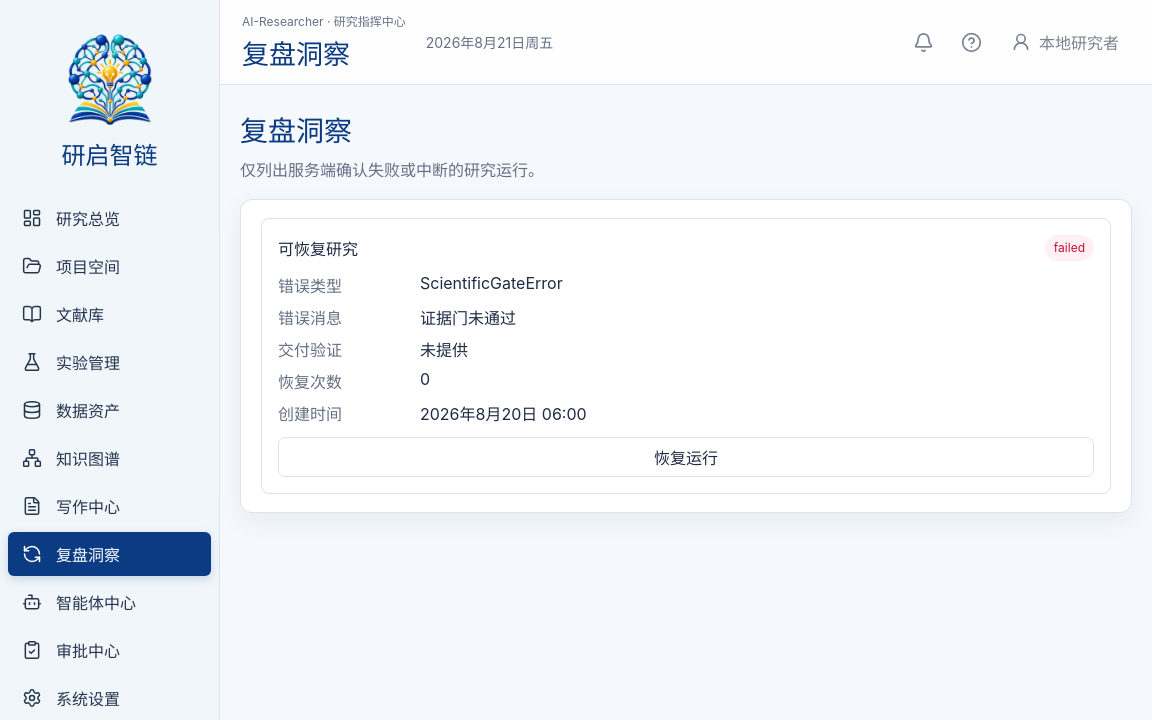
it: invalidates the exact run caches and toasts only after server-confirmed resume
Click the button with aria-label "恢复可恢复研究". click: x=686, y=457
box: [278,437,1094,477]
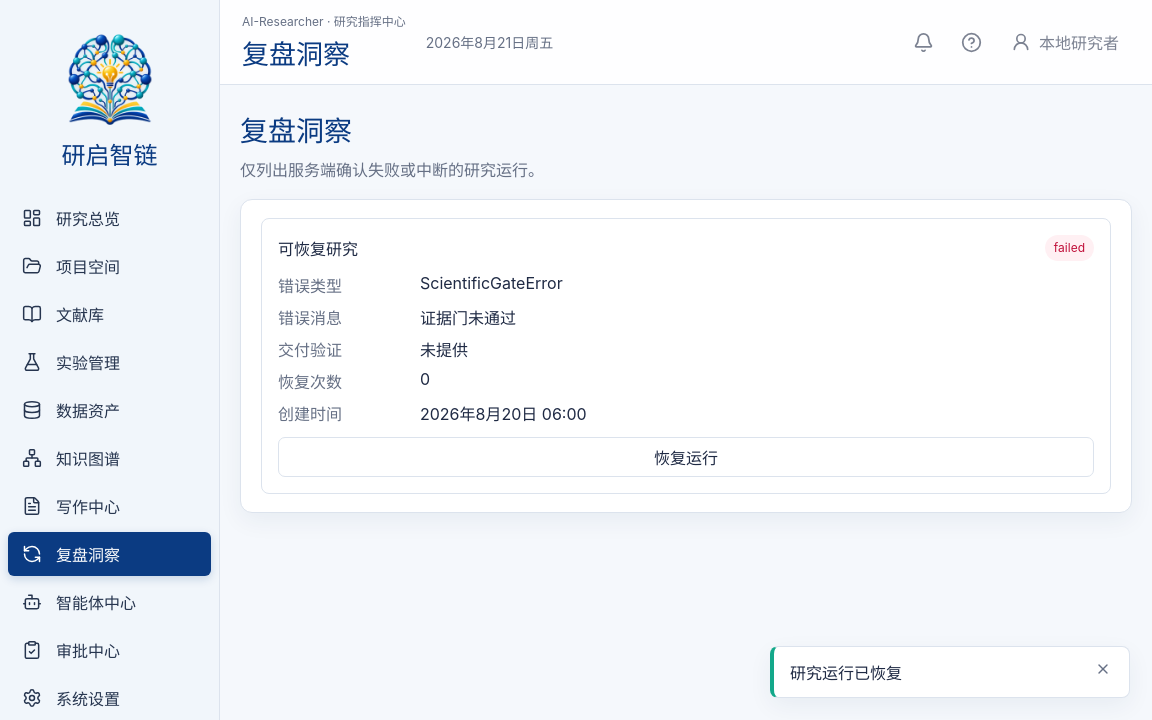
Result: the text "研究运行已恢复" is shown at [790,663,902,683]
